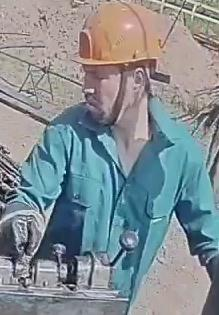gloves: (0, 195, 46, 262)
helmet: (71, 0, 180, 83)
vest: (27, 101, 214, 312)
